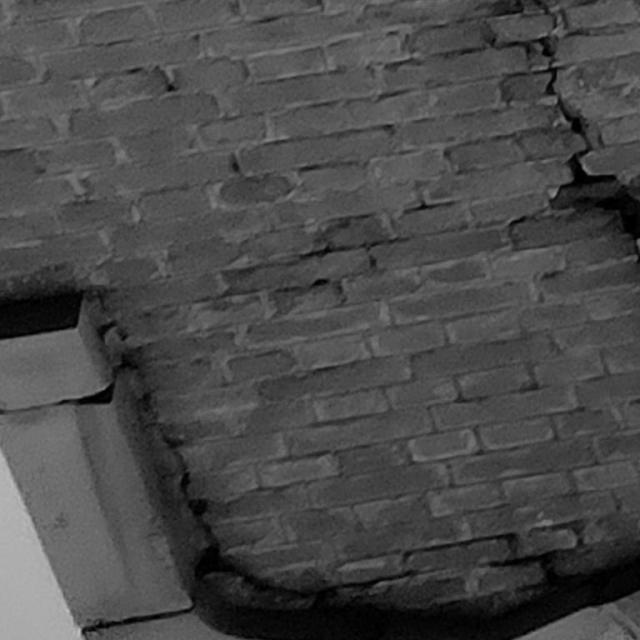crack: (89, 290, 417, 612), (507, 0, 640, 257), (423, 532, 587, 591)
